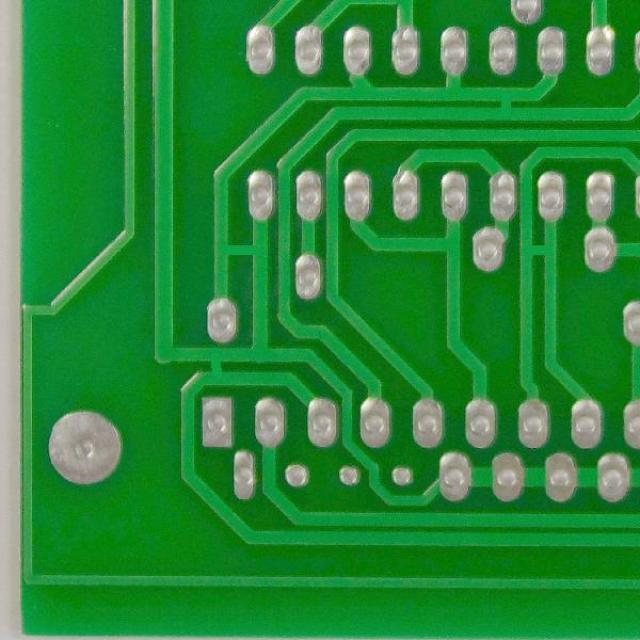Short_Circuit: (208, 228, 274, 270), (198, 342, 236, 390), (515, 232, 562, 266), (488, 82, 522, 125)
